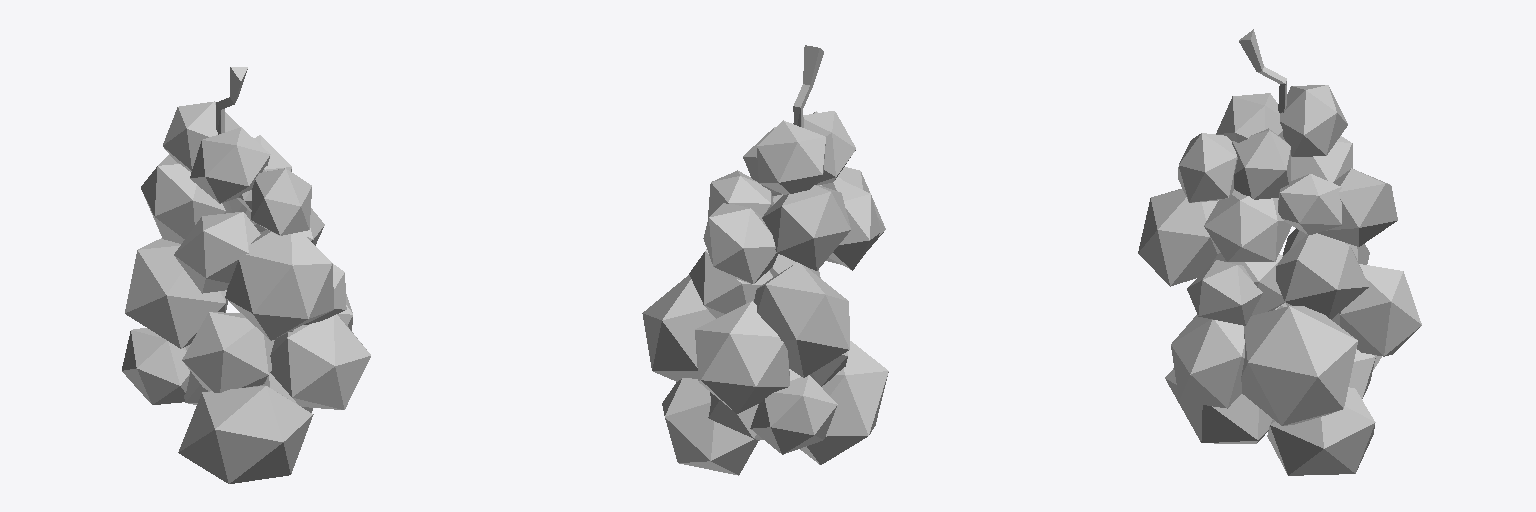
The model's file is grape.obj.
The picture shows the model from 3 angles: view 1: azimuth 30°, elevation 25°; view 2: azimuth 150°, elevation 25°; view 3: azimuth 270°, elevation 25°; orthographic projection.
Parts seen in each view (by area): view 1: grape; view 2: grape; view 3: grape.
Boxes of the visible parts, <box> form: grape: <box>122,67,370,483</box>; grape: <box>642,45,888,475</box>; grape: <box>1138,29,1421,475</box>.
Bounding box in the file's own units: 1.24 × 2.31 × 1.43.